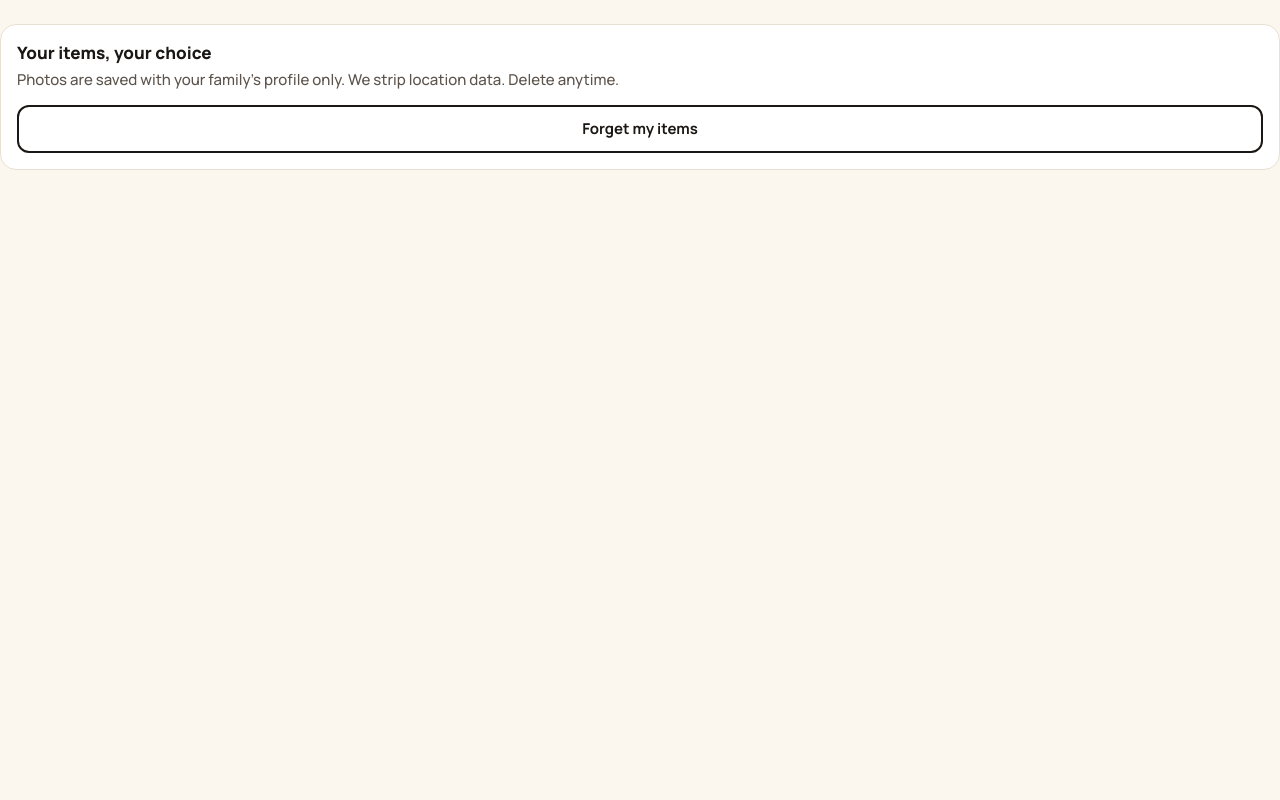
Test case: ForgetItemsCard › does nothing until the parent confirms, and the confirm step says in plain words what is deleted
The width and height of the screenshot is (1280, 800).
Click the button "Forget my items": (640,129) [17,105,1263,153]
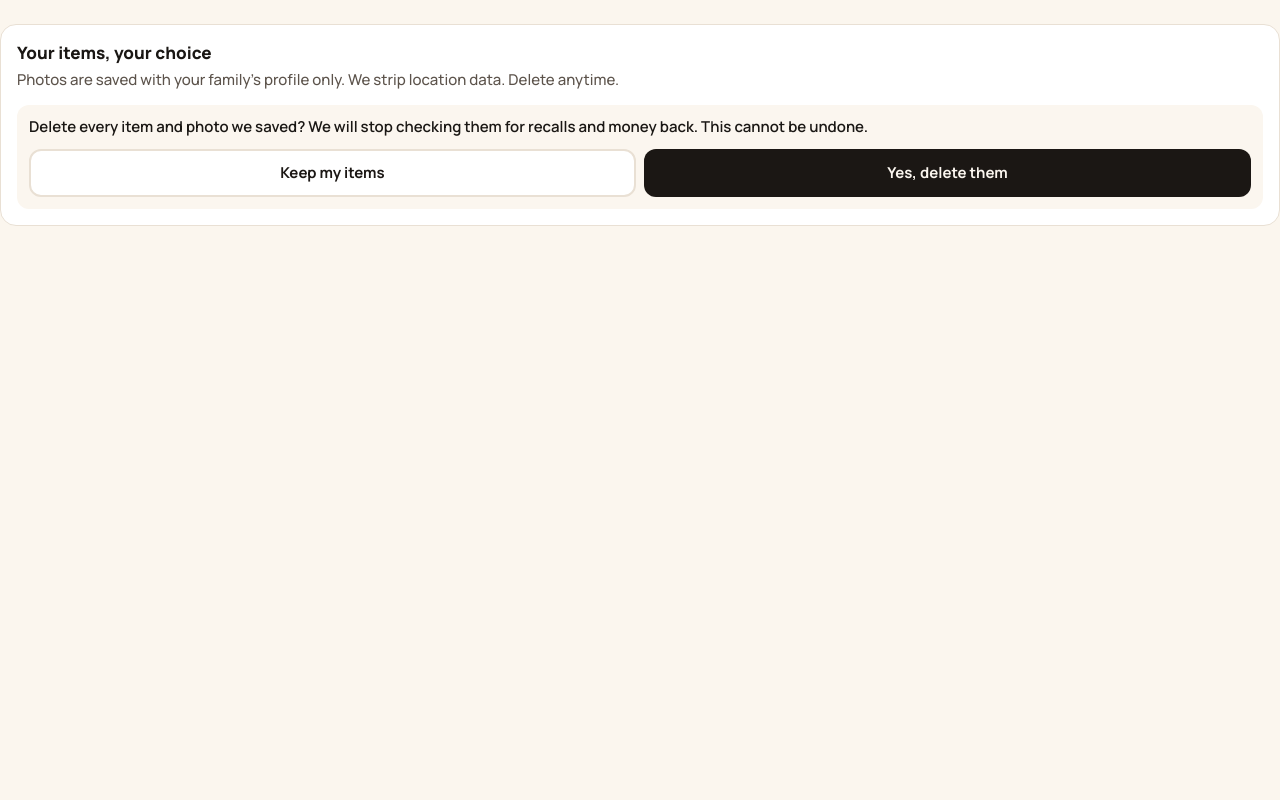
Now the dialog shows "Delete", box [29,116,868,137]
Now the dialog shows "cannot be undone", box [29,116,868,137]
